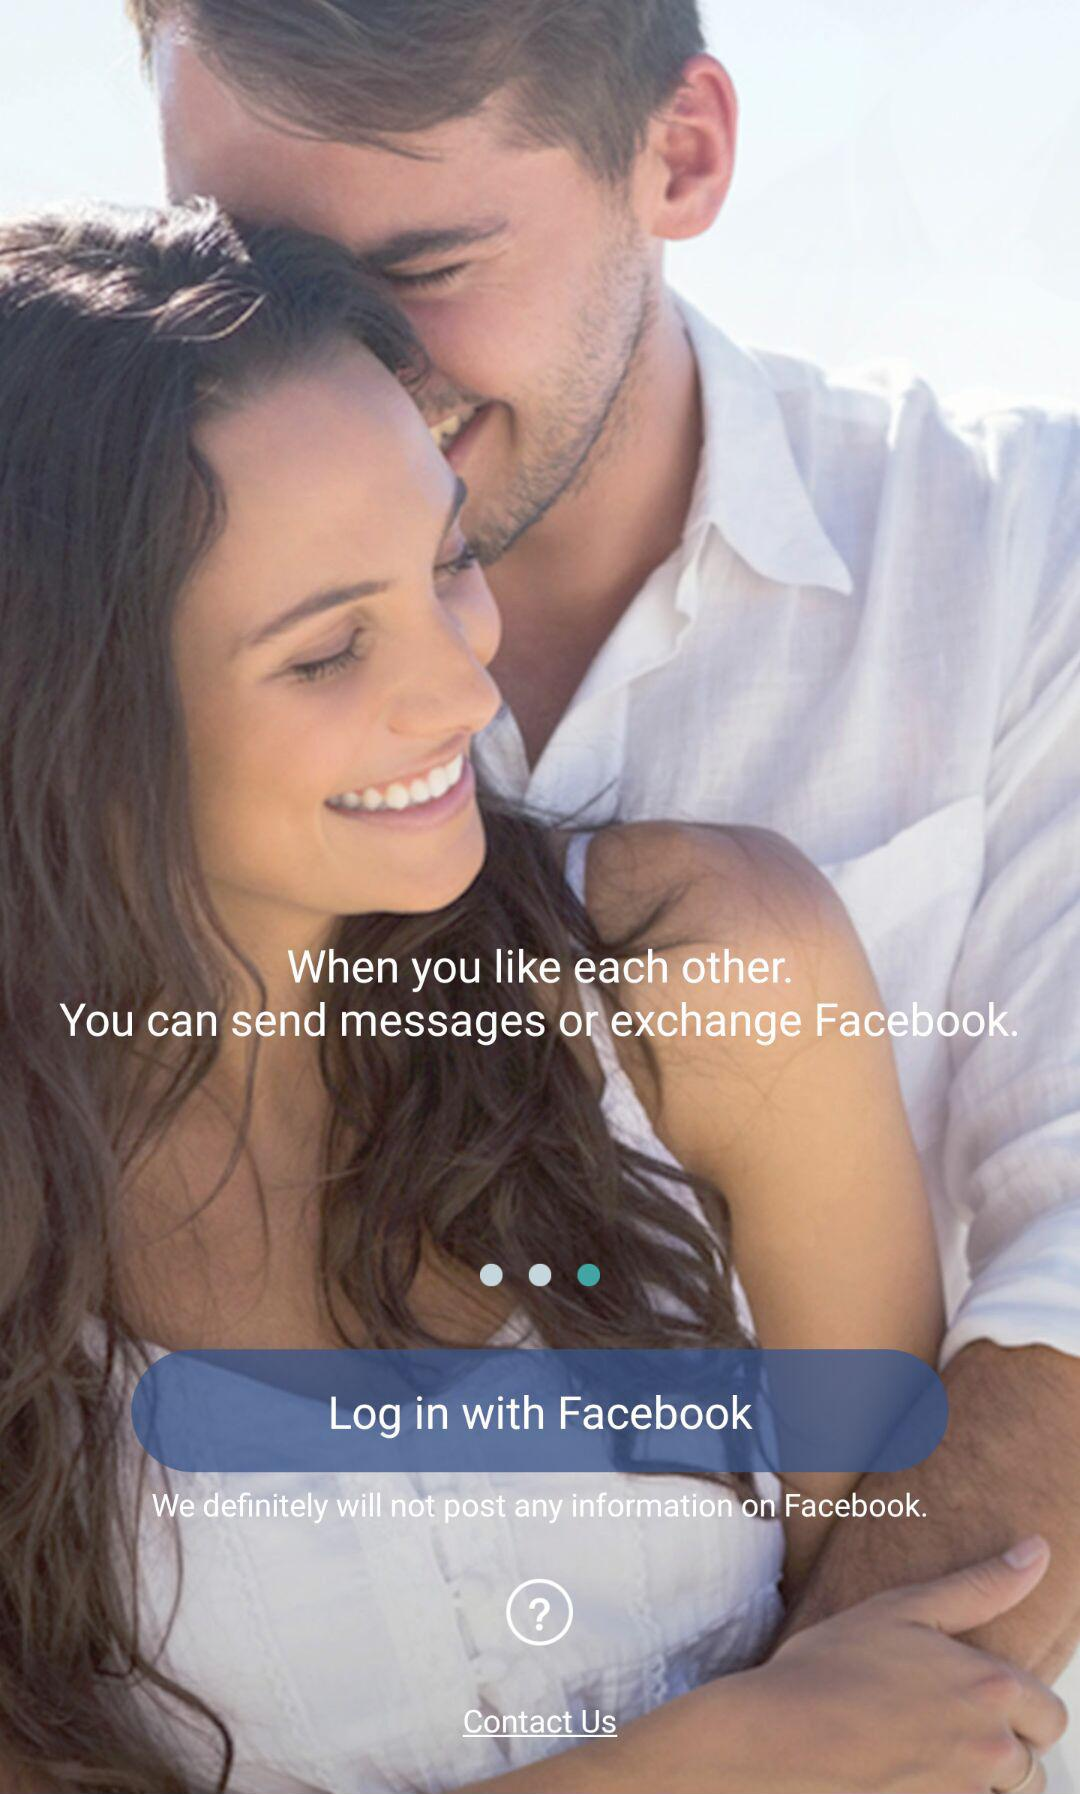BackgroundImage: (1, 1, 1080, 1794)
Icon: (505, 1577, 574, 1647)
PageIndicator: (479, 1262, 602, 1289)
Text: (59, 948, 1019, 1048), (151, 1490, 928, 1524), (462, 1708, 619, 1738)
TextButton: (132, 1351, 949, 1472)
